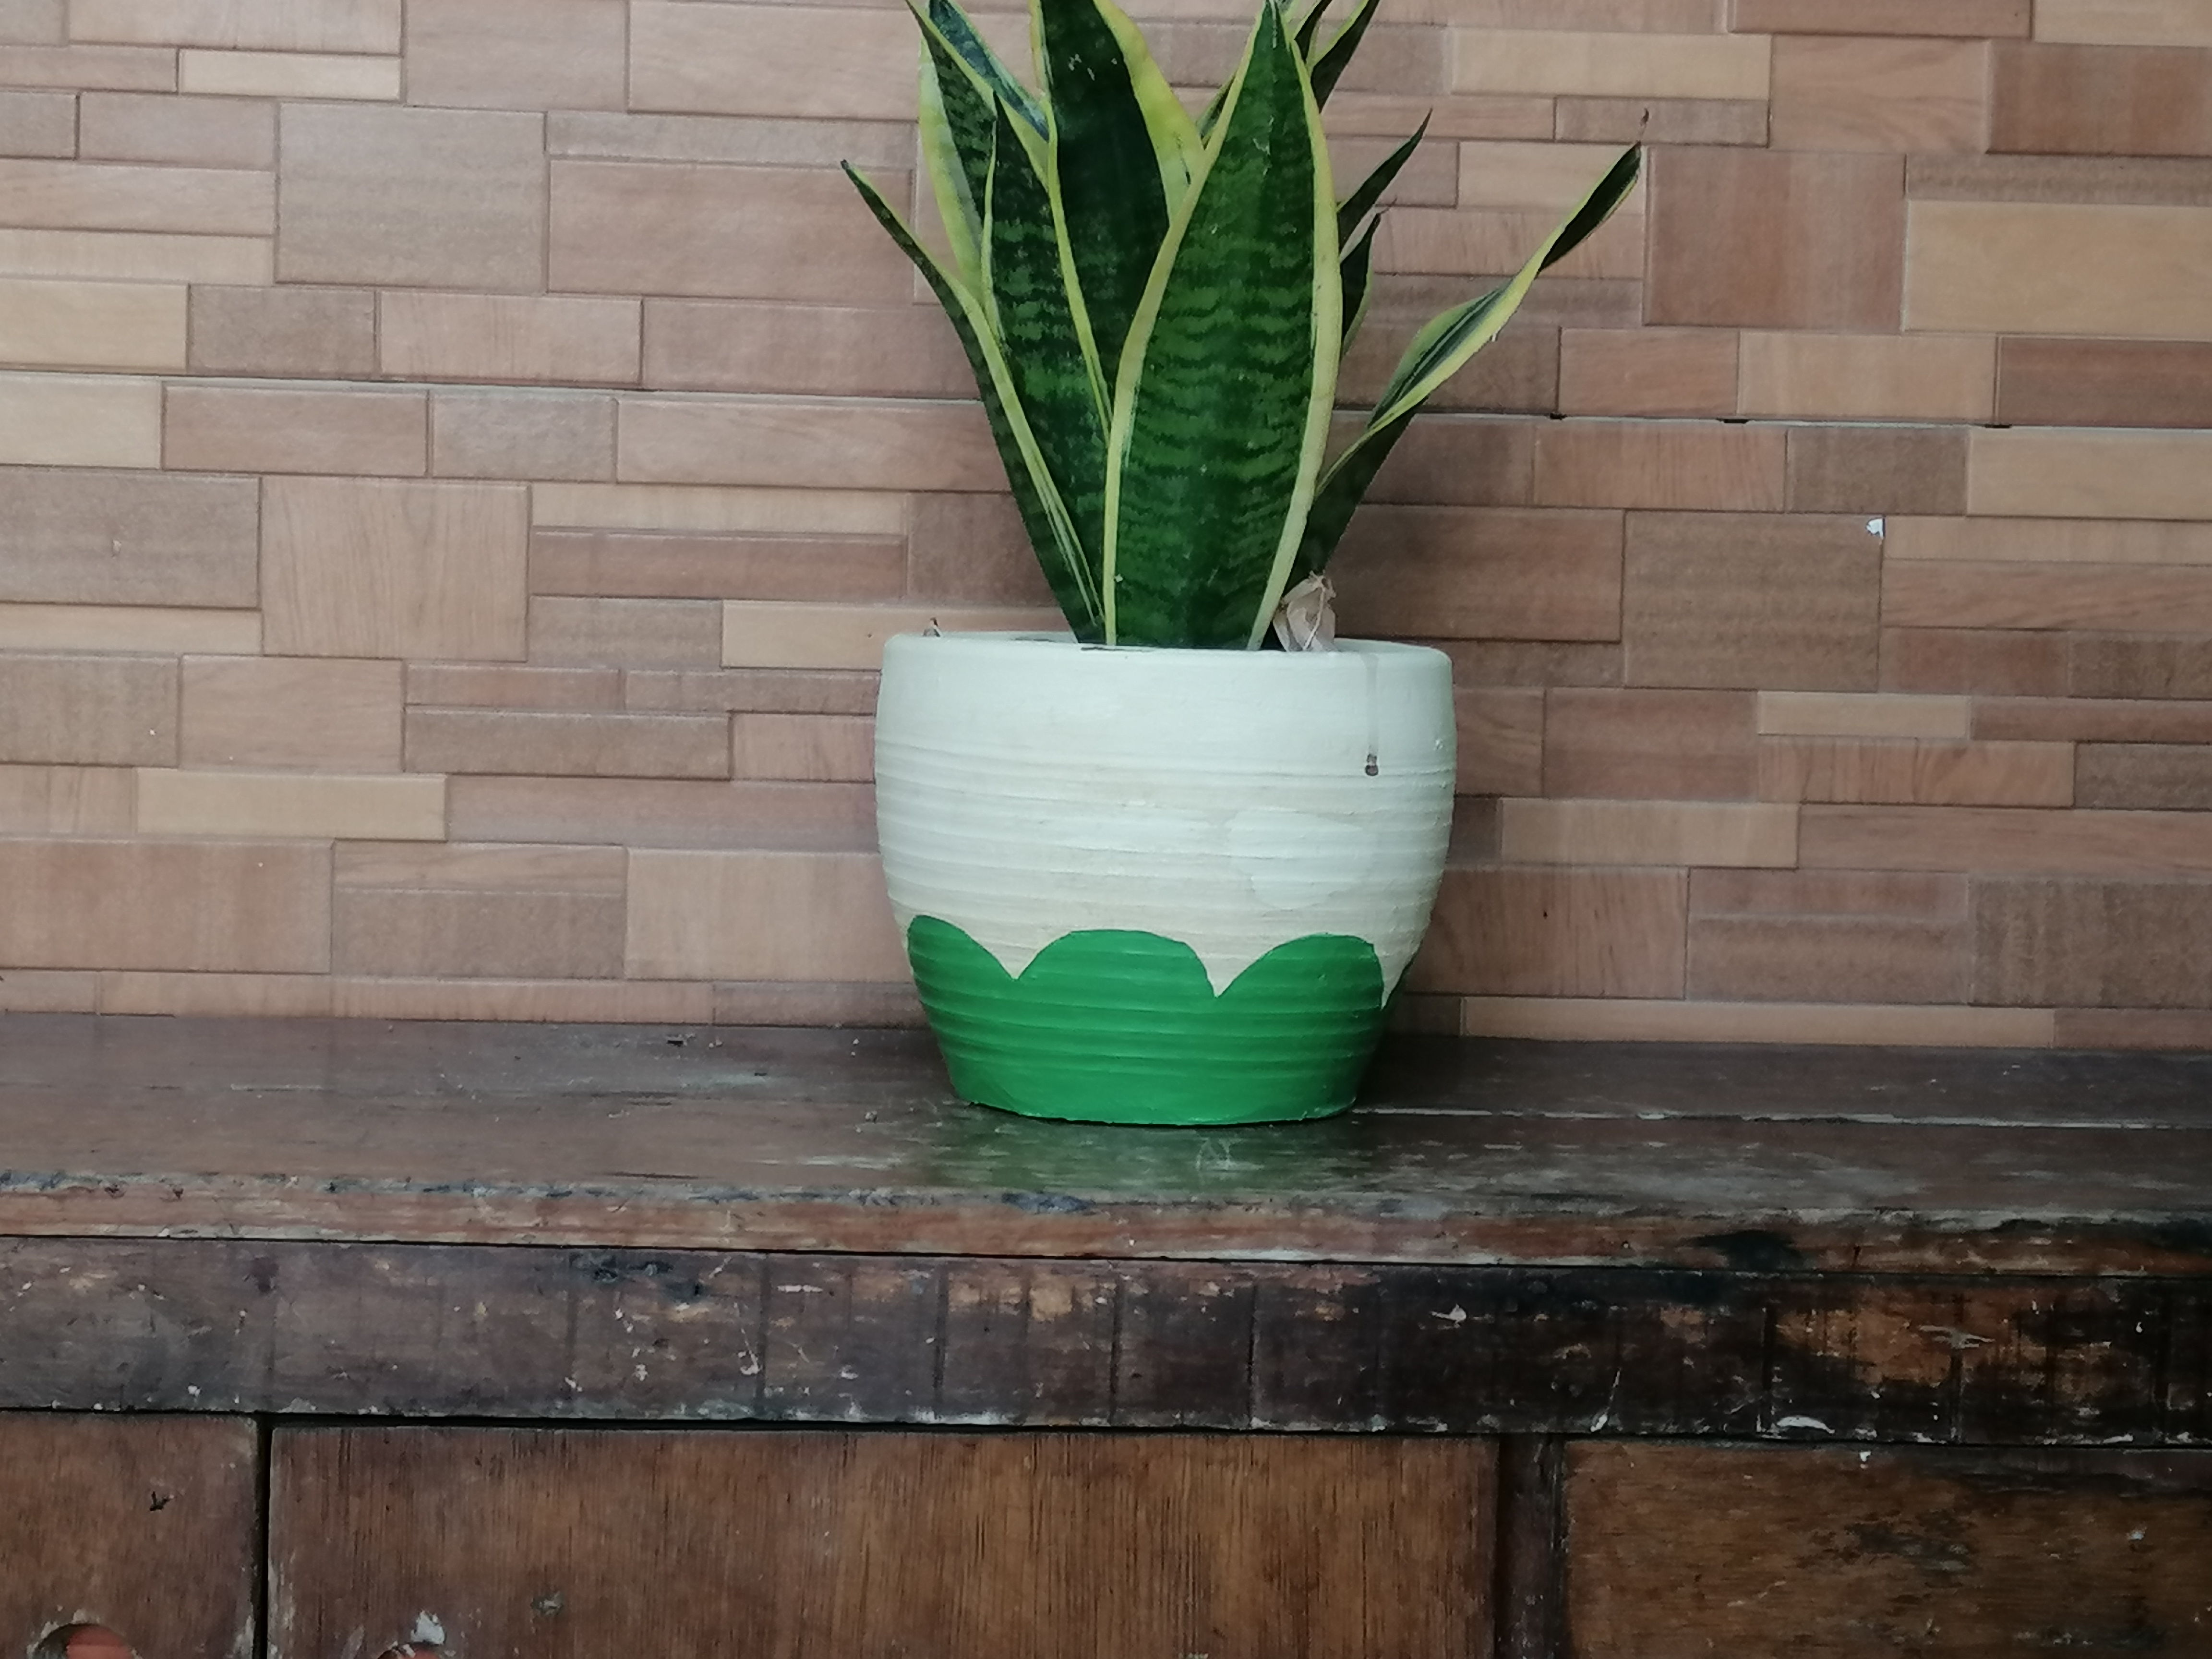plant: (833, 0, 1648, 1127)
